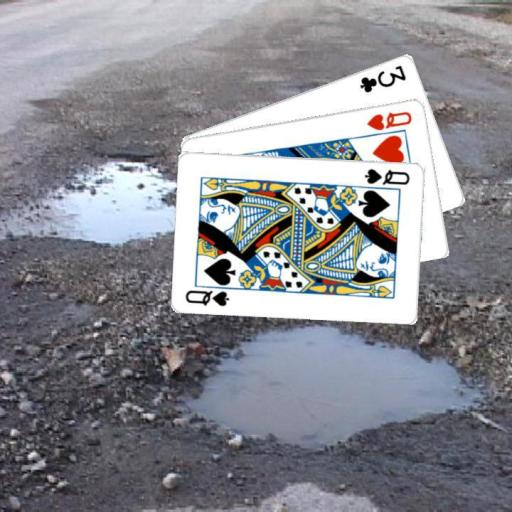3C: (357, 61, 408, 94)
QH: (364, 108, 414, 132)
QS: (183, 286, 231, 308), (362, 165, 412, 186)
